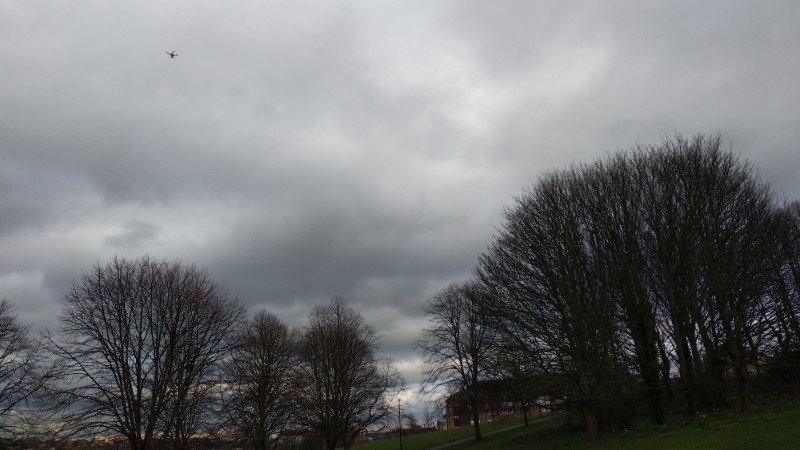drone: (166, 48, 179, 58)
